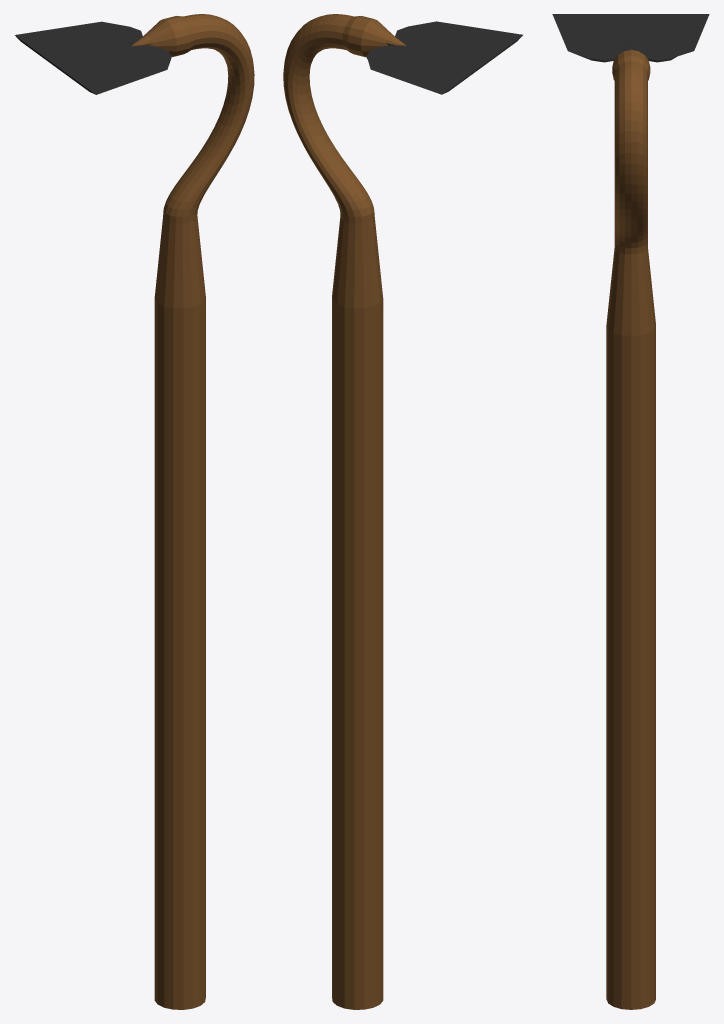
File: hoe.fbx
3 renders of one model, left to right at view 1: azimuth 30°, elevation 25°; view 2: azimuth 150°, elevation 25°; view 3: azimuth 270°, elevation 25°, orthographic. The views are drawn at different scales.
Visible parts, largest first — view 1: hoe; view 2: hoe; view 3: hoe.
Part boxes in pixels (bbox=[...]): hoe: bbox=[15, 14, 254, 1009]; hoe: bbox=[283, 14, 522, 1009]; hoe: bbox=[552, 14, 709, 1009].
Bounding box in the file's own units: 20.6 × 98.54 × 14.89.
